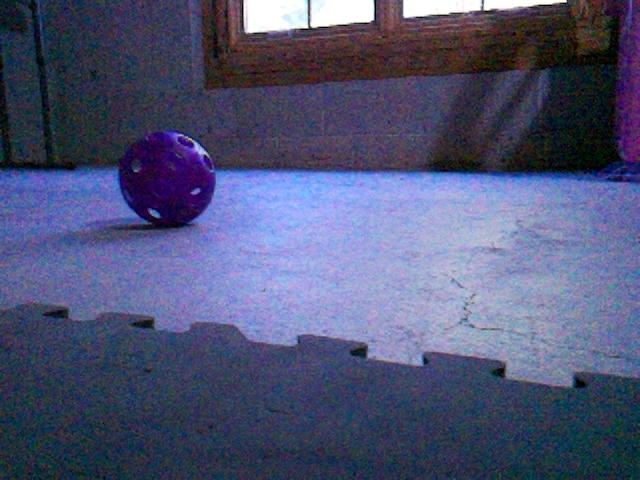Purple: (118, 127, 216, 229)
